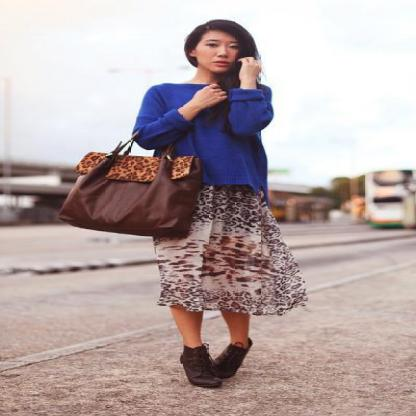bag: (52, 146, 208, 241)
shirt: (122, 79, 272, 191)
shoe: (180, 341, 252, 389)
skirt: (145, 184, 306, 318)
